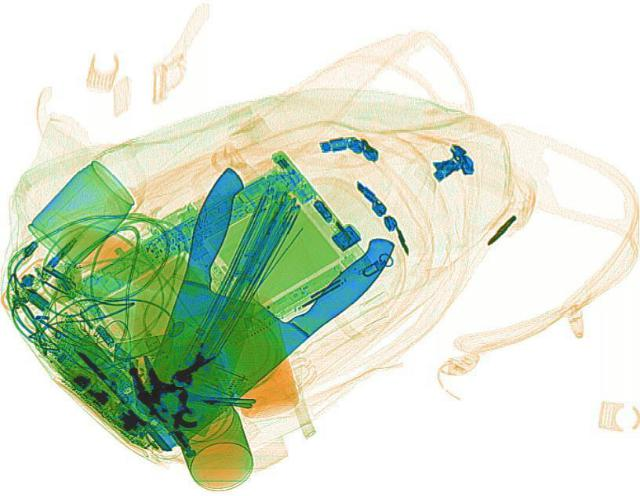Knife: (122, 209, 408, 444), (122, 162, 304, 438)
